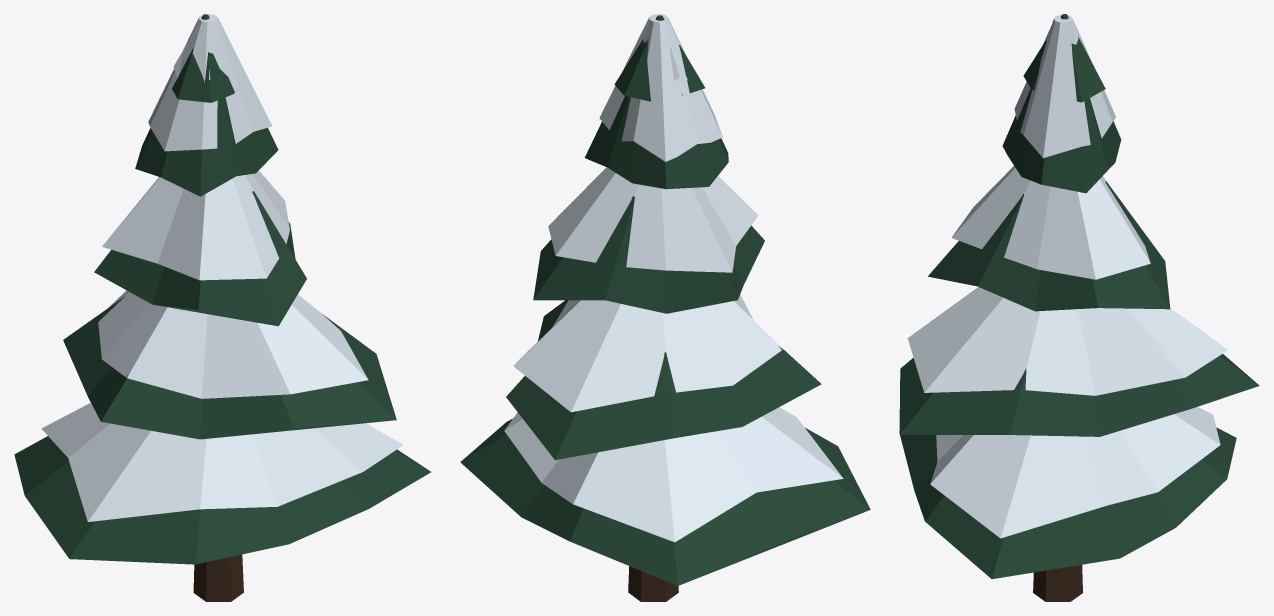
Rendered from Hut_Pine_7_0_-2.fbx.
The picture shows the model from 3 angles, left to right: view 1: azimuth 30°, elevation 25°; view 2: azimuth 150°, elevation 25°; view 3: azimuth 270°, elevation 25°; orthographic projection.
Visible parts, largest first — view 1: Hut_Pine_7_0_-2; view 2: Hut_Pine_7_0_-2; view 3: Hut_Pine_7_0_-2.
Boxes of the visible parts, x1,y1,x2,y2 form: Hut_Pine_7_0_-2: (14, 14, 430, 601); Hut_Pine_7_0_-2: (460, 14, 870, 601); Hut_Pine_7_0_-2: (899, 14, 1259, 601).
Bounding box in the file's own units: 431 × 657 × 375.
